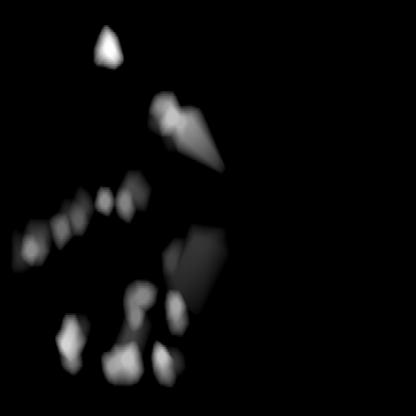fingers: (90, 22, 124, 66)
palm: (14, 184, 110, 377), (51, 289, 188, 386)
thumb: (115, 85, 222, 286)
